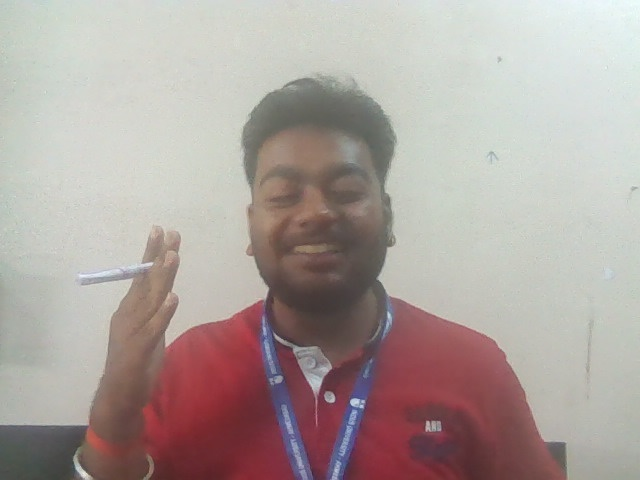smoking: (75, 222, 185, 394)
